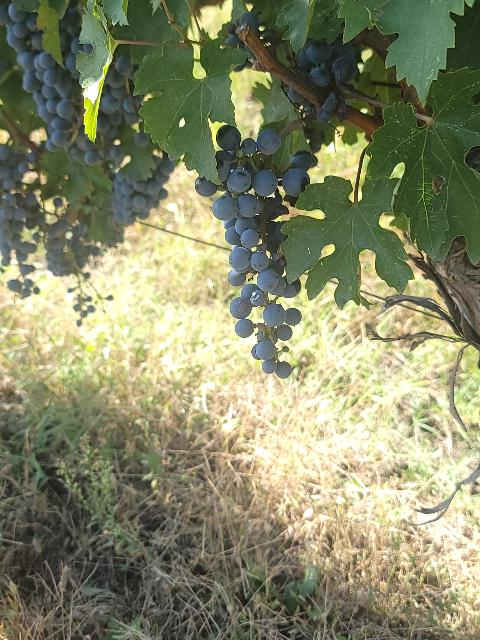grapes: (195, 125, 316, 379), (0, 2, 80, 151), (0, 145, 44, 276), (45, 219, 101, 319), (111, 154, 175, 225)
